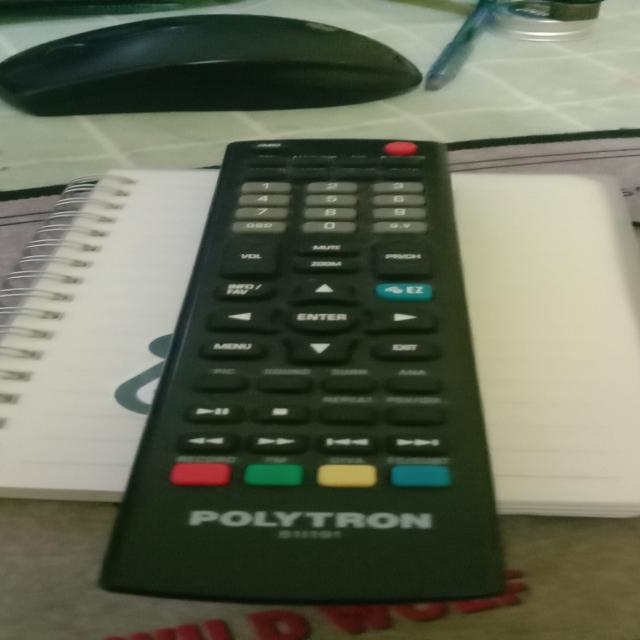remote: (92, 134, 505, 606)
